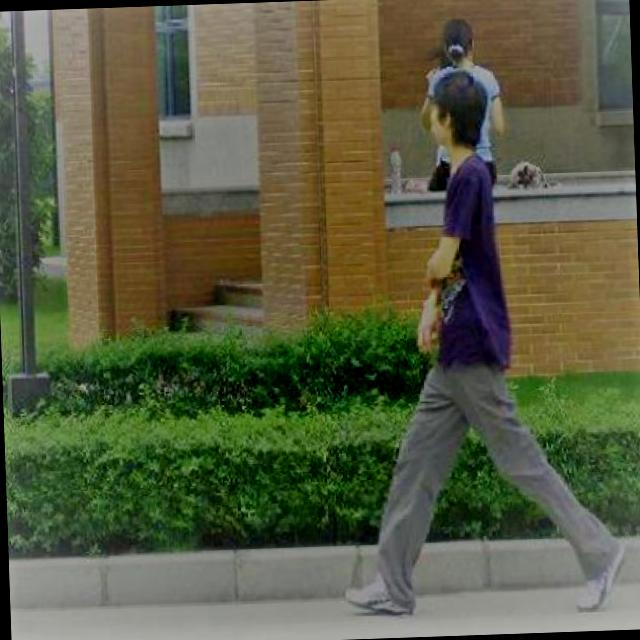Person: (323, 58, 639, 630)
